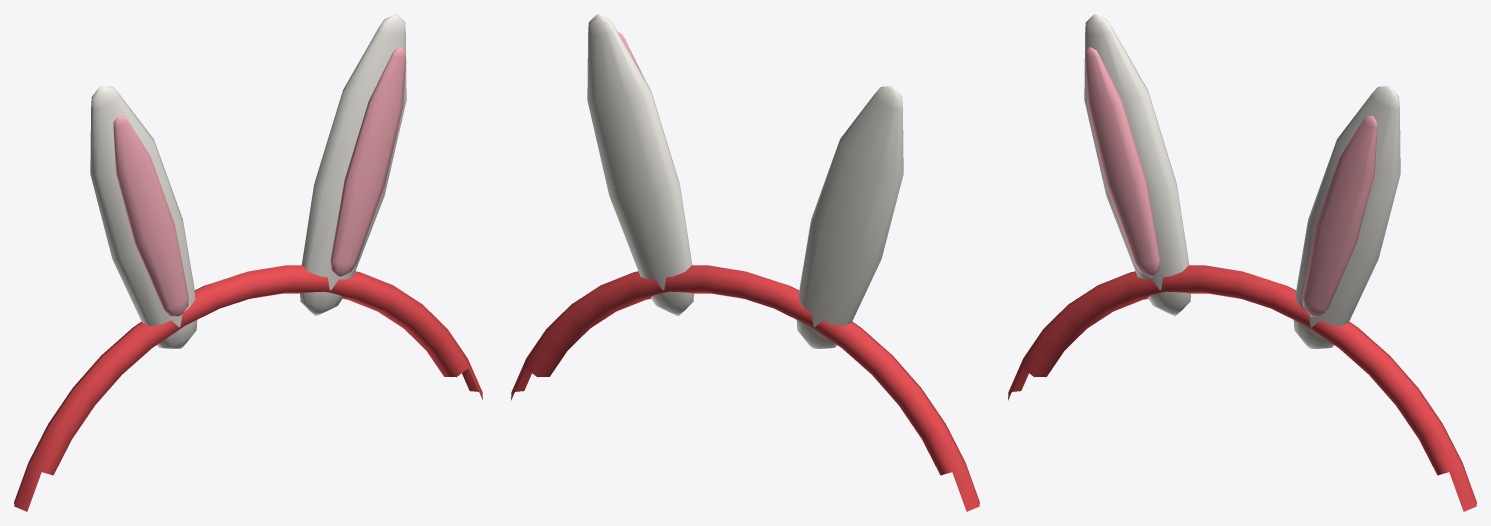
Rendered from hat_bunny.glb.
3 renders of one model, left to right at view 1: azimuth 30°, elevation 25°; view 2: azimuth 150°, elevation 25°; view 3: azimuth 330°, elevation 25°, orthographic.
Parts seen in each view (by area): view 1: hat_bunny; view 2: hat_bunny; view 3: hat_bunny.
Boxes of the visible parts, left/top/right/bottom form: hat_bunny: left=14, top=14, right=482, bottom=511; hat_bunny: left=511, top=14, right=979, bottom=511; hat_bunny: left=1008, top=14, right=1476, bottom=511.
Bounding box in the file's own units: 0.6353 × 0.5204 × 0.0601.
